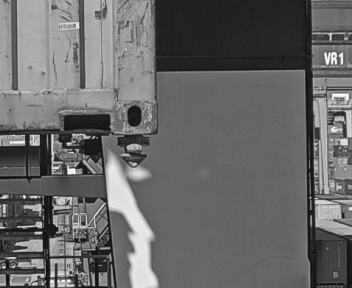twist_lock_2: (93, 127, 135, 172)
